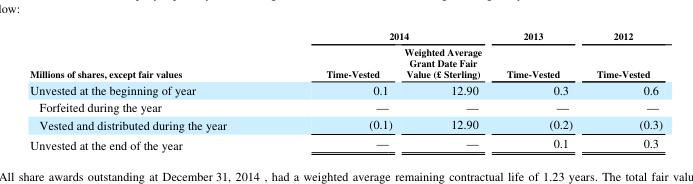table: (29, 29, 662, 152)
table column: (29, 29, 275, 152), (275, 29, 397, 152), (397, 29, 493, 152), (493, 29, 584, 152), (584, 29, 662, 152)
table column header: (29, 29, 662, 80)
table row: (29, 43, 662, 80), (29, 133, 662, 152), (29, 97, 662, 115), (29, 115, 662, 133), (29, 80, 662, 97), (29, 29, 662, 43)
table spanning cell: (29, 29, 275, 80), (493, 29, 584, 80), (584, 29, 662, 80), (275, 29, 493, 43)
